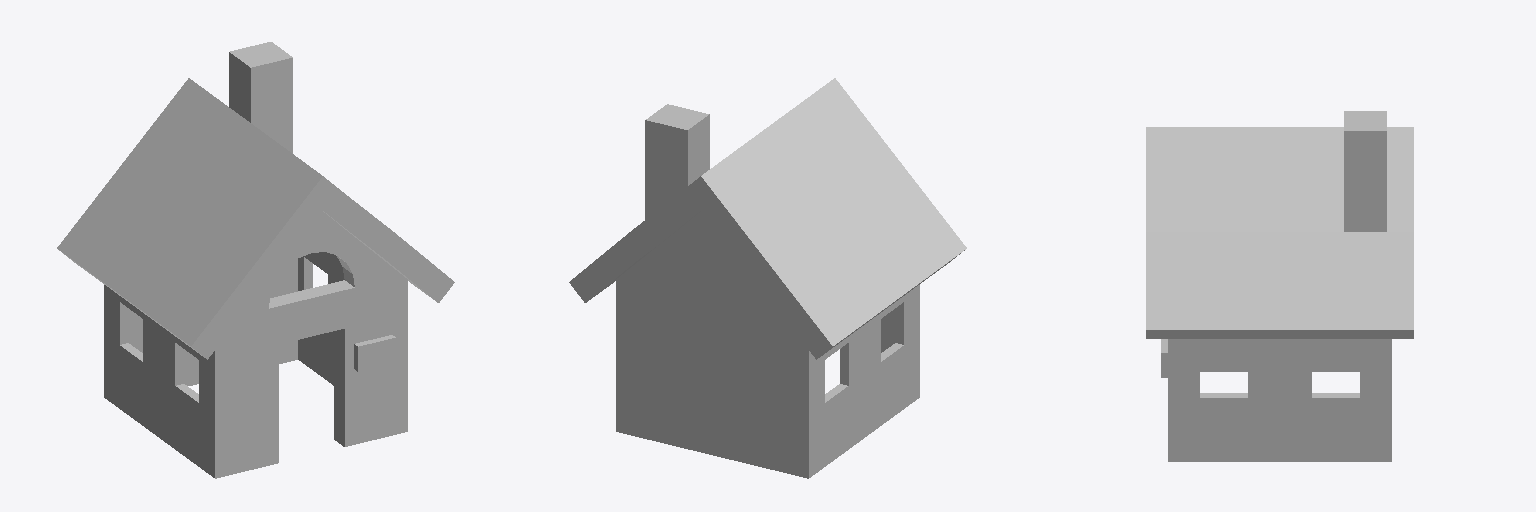
The model's file is house.obj.
3 renders of one model, left to right at view 1: azimuth 30°, elevation 25°; view 2: azimuth 150°, elevation 25°; view 3: azimuth 270°, elevation 25°, orthographic.
Bounding box in the file's own units: 10.94 × 12.53 × 9.63.